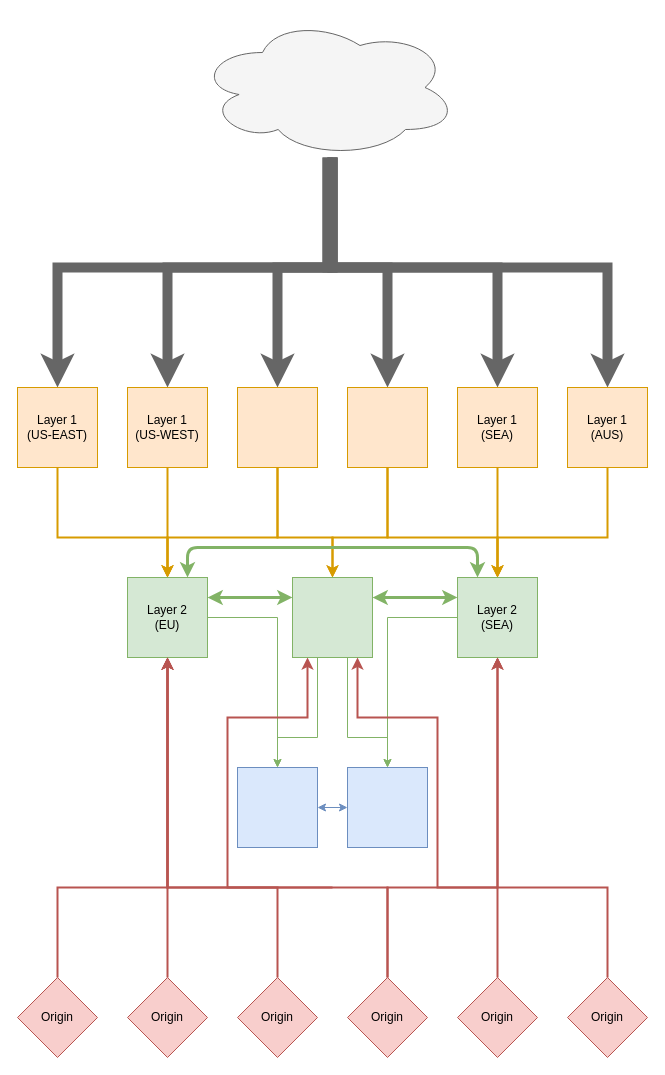
The diagram is 665 pixels wide and 1075 high, and some of its shapes have lost their labels. Here are the shapes that lost their labels. From the top down, the centre of each, then its label:
point 327,87: Internet
point 277,427: Layer 1 (EU-EAST)
point 387,427: Layer 1 (EU-WEST)
point 332,617: Layer 2 (NA)
point 277,807: Control (EU)
point 387,807: Control (NA)
